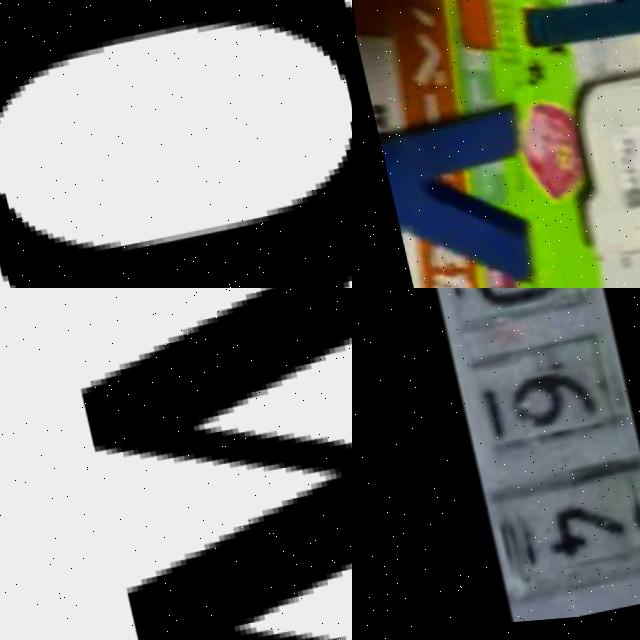0: (459, 288, 558, 319)
4: (519, 496, 620, 574)
6: (493, 359, 600, 443)
E: (352, 0, 503, 63)
M: (490, 0, 640, 63)
Q: (0, 0, 352, 288), (539, 71, 640, 269)
V: (365, 102, 540, 288)
W: (33, 288, 352, 640)
